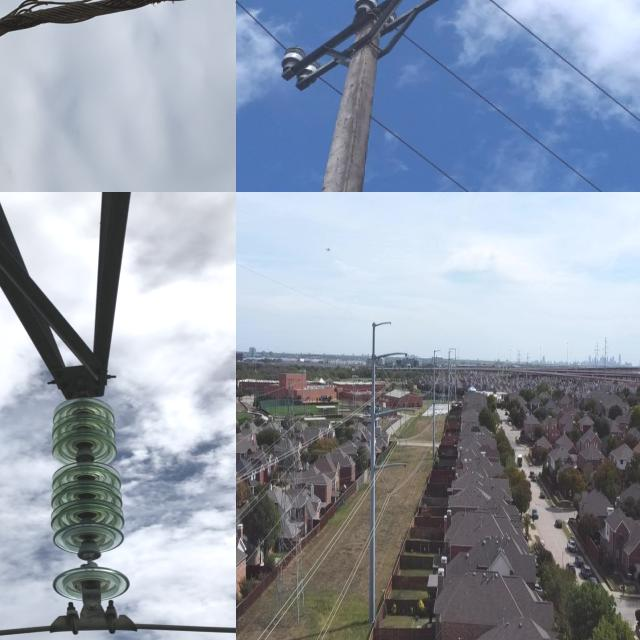杆塔: (272, 368, 310, 628)
正常绝缘子: (38, 378, 138, 633), (387, 471, 404, 498), (387, 360, 404, 386), (386, 416, 401, 443), (395, 418, 410, 444), (379, 359, 393, 386), (378, 470, 392, 496)
绝缘子破损: (76, 544, 102, 564), (72, 451, 96, 460)
